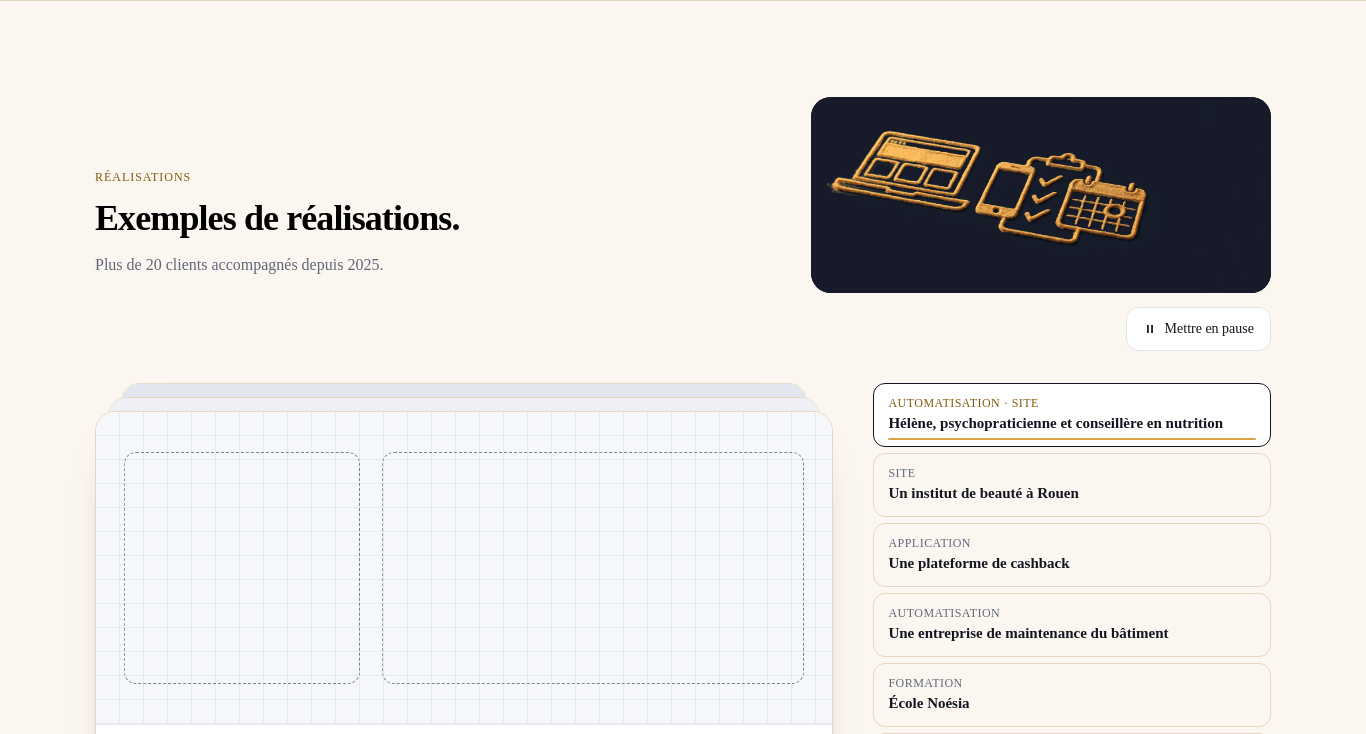
Test case: Construit › pauses the bar with the button and says so
The image size is (1366, 734).
Click the button "Mettre en pause": (1198, 329) 1126,307 -> 1271,351
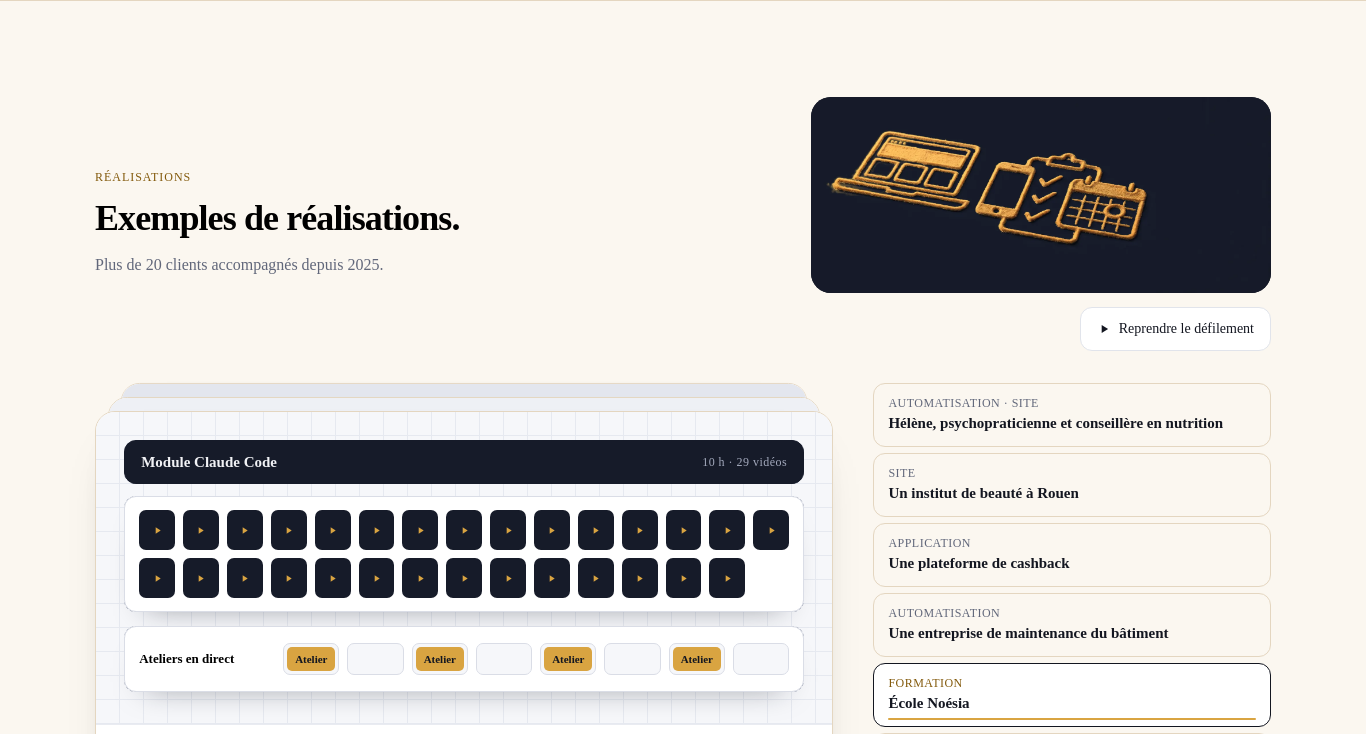
Expected: the button "Reprendre le défilement" is shown, 1080,307 -> 1271,351
